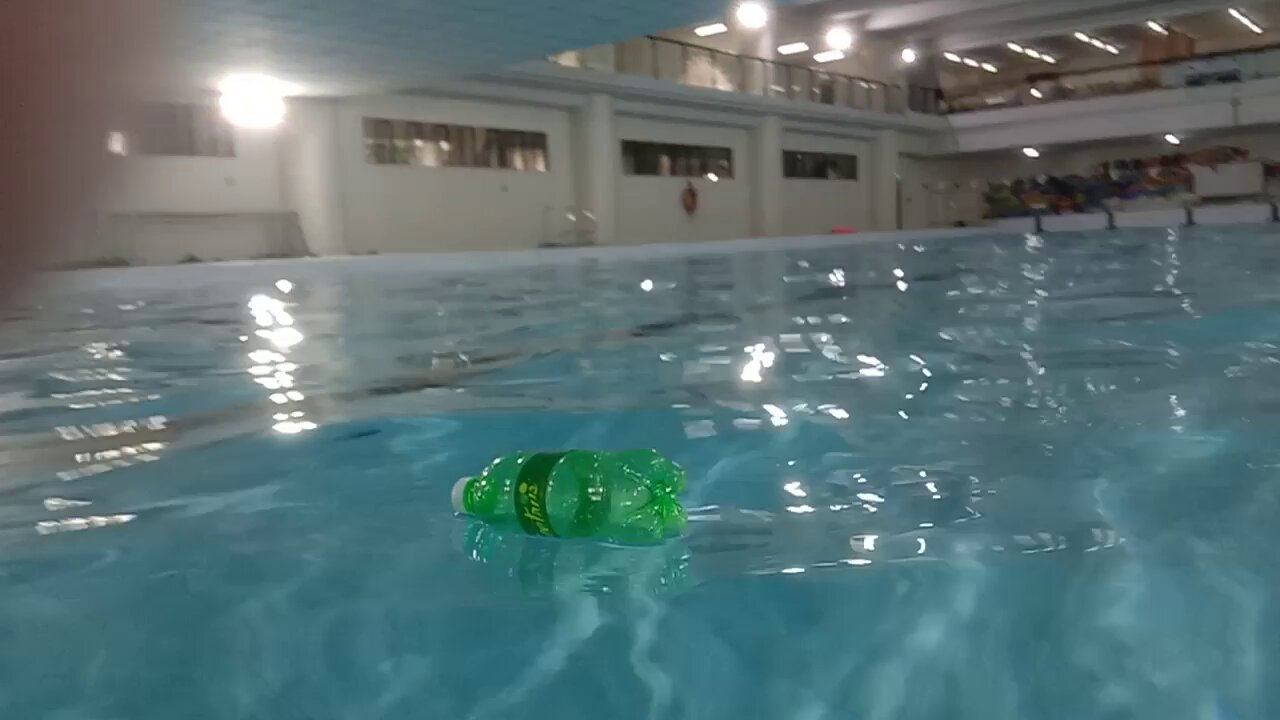plastic_bottle: (452, 449, 687, 541)
